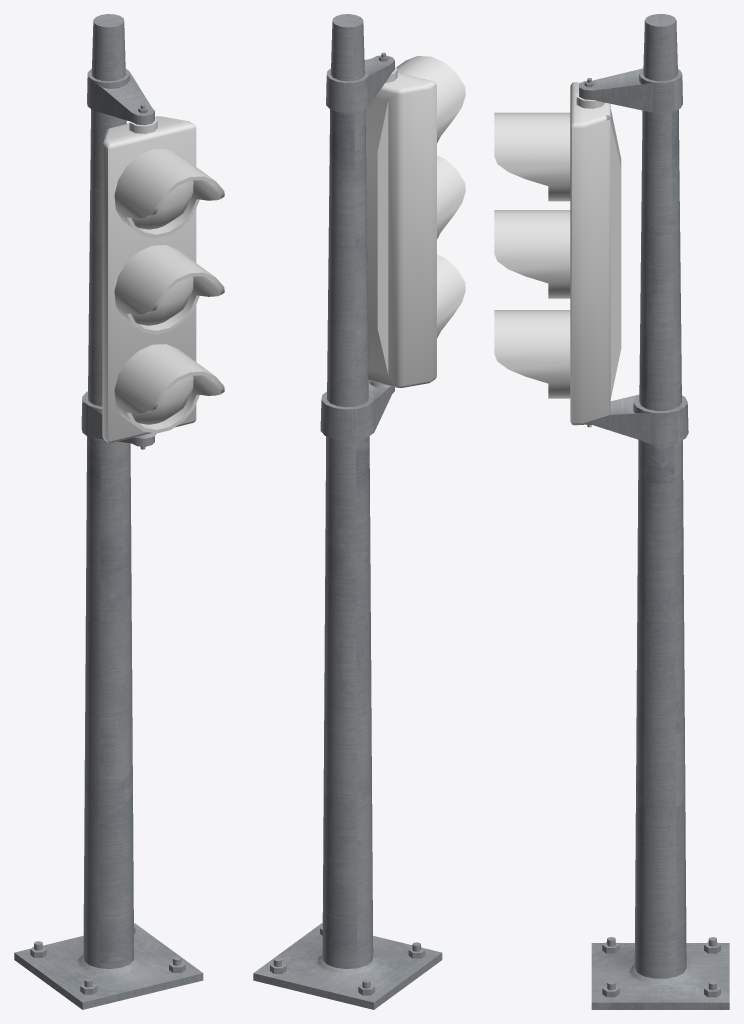
The model's file is Street Light.fbx.
The picture shows the model from 3 angles, left to right: view 1: azimuth 30°, elevation 25°; view 2: azimuth 150°, elevation 25°; view 3: azimuth 270°, elevation 25°; orthographic projection.
Visible parts, largest first — view 1: Cylinder.002; view 2: Cylinder.002; view 3: Cylinder.002.
Part boxes in pixels (x1=…): Cylinder.002: x1=14, y1=14, x2=224, y2=1009; Cylinder.002: x1=253, y1=14, x2=465, y2=1009; Cylinder.002: x1=494, y1=14, x2=729, y2=1009.
Size of the model in its own units: 37.71 by 284 by 63.04.
